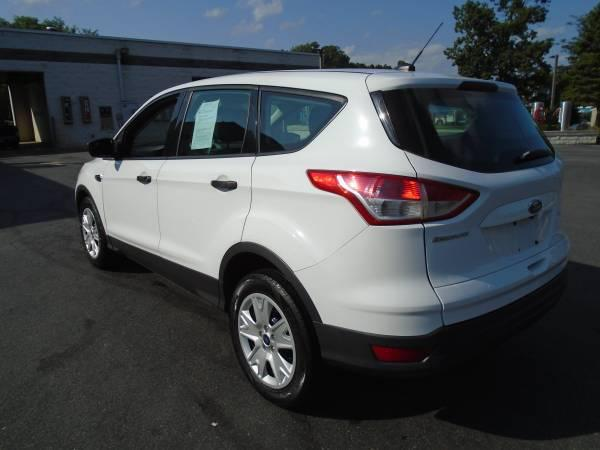Front_Fender: (74, 159, 104, 223)
Front_Left_Door: (103, 158, 166, 261)
Front_Left_Window: (106, 87, 194, 158)
Left_Taillight: (309, 169, 482, 227)
Rear_Bumper: (291, 223, 569, 363)
Rear_Fender: (239, 87, 417, 273)
Rear_Left_Door: (156, 153, 257, 305)
Rear_Left_Window: (172, 87, 265, 160)
Rear_Windshield: (372, 86, 558, 173)
Roof: (118, 67, 518, 135)
Tailgate: (405, 152, 561, 287)
Wheel: (229, 270, 321, 395), (77, 201, 103, 265)
